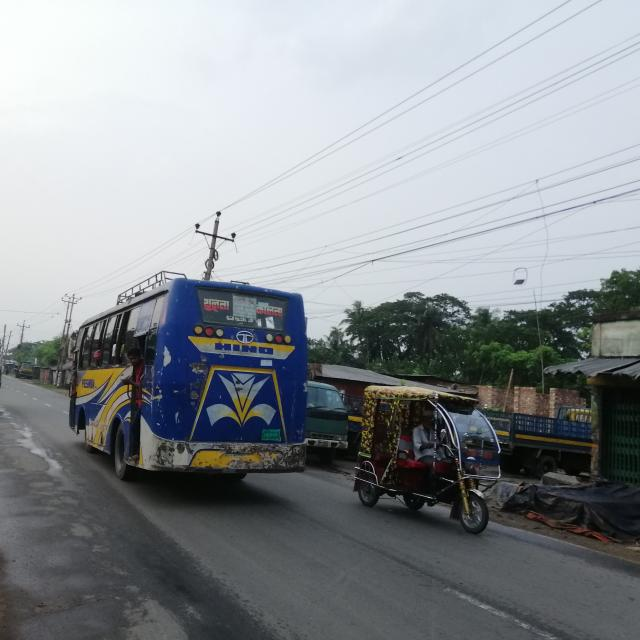Bus: (61, 267, 316, 490)
Easybike: (357, 385, 504, 536)
